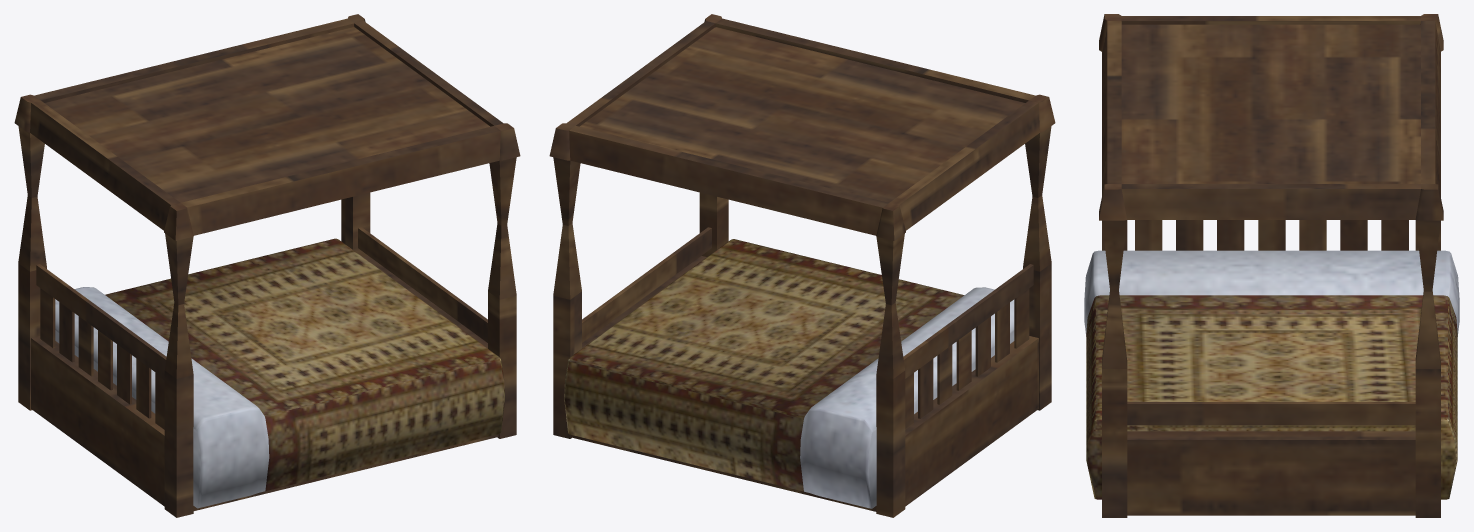
Rendered from MS_Bed_4.fbx.
The picture shows the model from 3 angles, left to right: view 1: azimuth 30°, elevation 25°; view 2: azimuth 150°, elevation 25°; view 3: azimuth 270°, elevation 25°; orthographic projection. The views are drawn at different scales.
Parts seen in each view (by area): view 1: MSH_Bed; view 2: MSH_Bed; view 3: MSH_Bed.
Boxes of the visible parts, x1,y1,x2,y2 form: MSH_Bed: (14, 14, 520, 517); MSH_Bed: (549, 14, 1055, 517); MSH_Bed: (1084, 14, 1459, 517).
Bounding box in the file's own units: 205 × 174 × 180.
